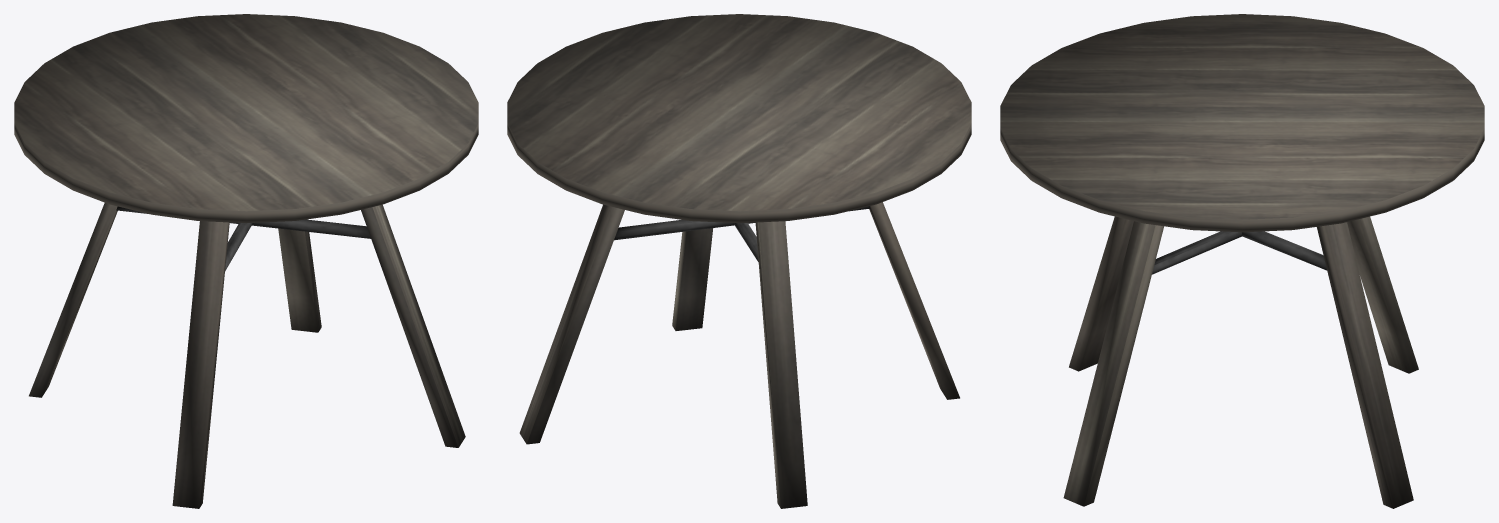
File: dining_table.glb
3 renders of one model, left to right at view 1: azimuth 30°, elevation 25°; view 2: azimuth 150°, elevation 25°; view 3: azimuth 270°, elevation 25°, orthographic. The views are drawn at different scales.
Visible parts, largest first — view 1: mesh_0; view 2: mesh_0; view 3: mesh_0.
Part boxes in pixels (left/top/right/bottom): mesh_0: left=14, top=14, right=478, bottom=508; mesh_0: left=507, top=14, right=971, bottom=508; mesh_0: left=1000, top=14, right=1484, bottom=508.
Size of the model in its own units: 1.06 by 0.7616 by 1.06.
Materials: 1 (1 with a texture image).
